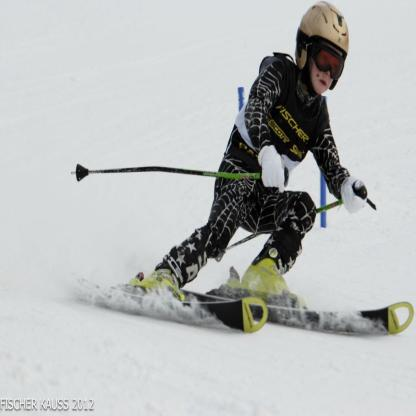Helmet: (294, 0, 353, 103)
